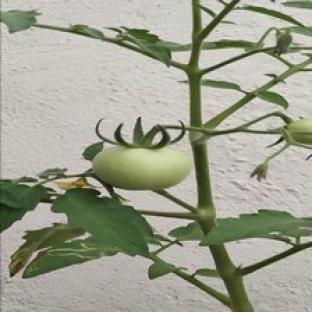Tomato: (92, 147, 192, 190), (286, 117, 311, 144)
